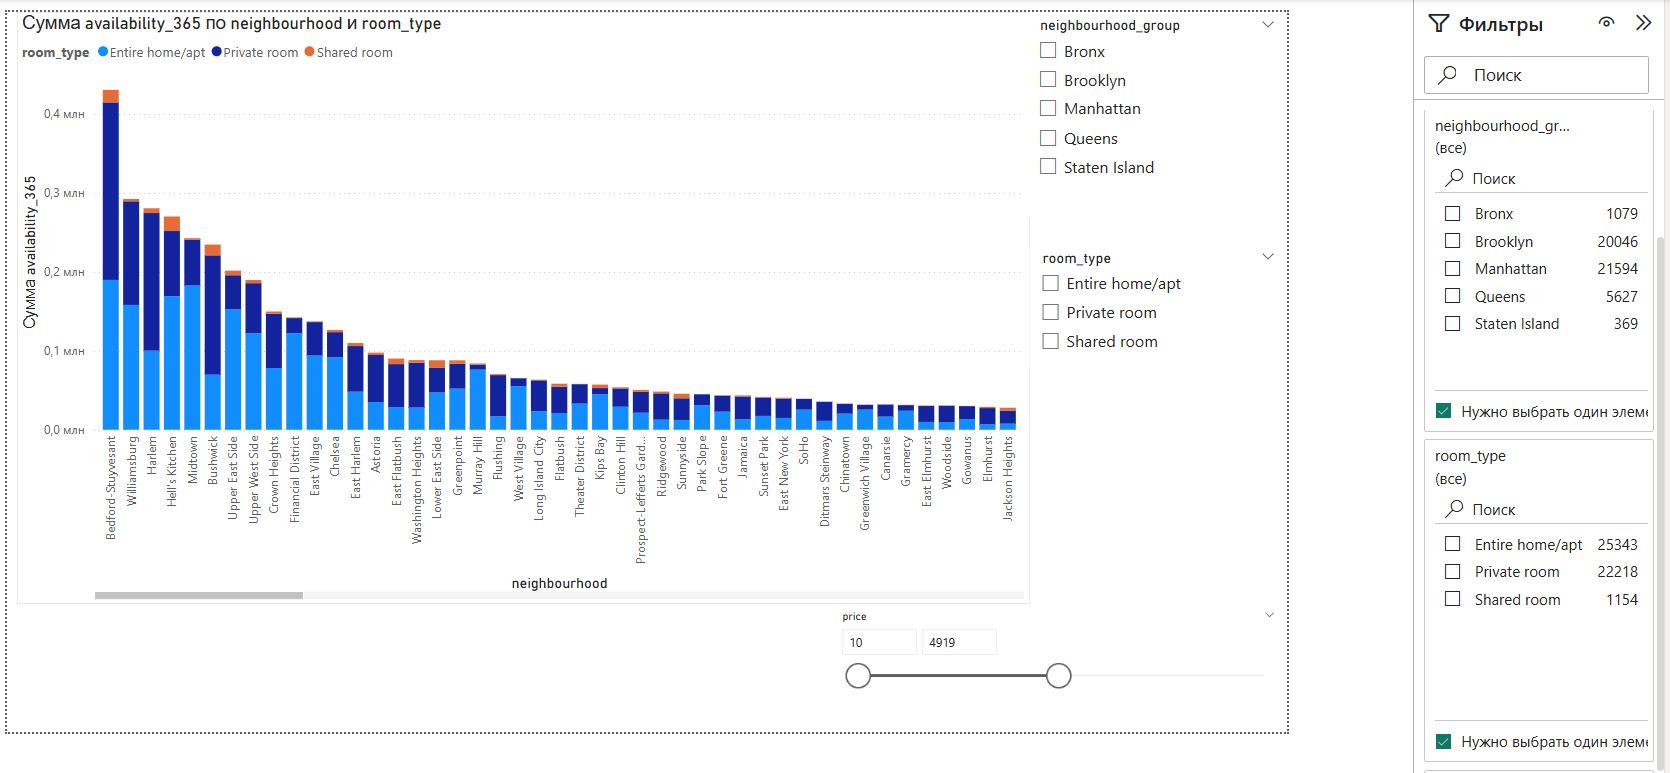

What the dashboard file says about the page in this screenshot:
{"tool":"powerbi","page":{"name":"Total Availability per Neighborhood","canvas":[1280,720],"ordinal":5},"visuals":[{"type":"columnChart","fields":{"Category":["AB_NYC_2019.neighbourhood"],"Y":["Sum(AB_NYC_2019.availability_365)"],"Series":["AB_NYC_2019.room_type"]},"box":[10,0,1012.5,592.5],"z":0},{"type":"slicer","fields":{"Values":["AB_NYC_2019.room_type"]},"box":[1022.5,232.5,257.5,127.5],"z":1},{"type":"slicer","fields":{"Values":["AB_NYC_2019.neighbourhood_group"]},"box":[1020,0,260,207.5],"z":2},{"type":"slicer","fields":{"Values":["AB_NYC_2019.price"]},"box":[822.5,592.5,457.5,127.5],"z":3}]}

Visuals, with their boxes on the page's 1280x720 design canvas (x1, y1, x2, y2). These are canvas units, not pixel positions in the 1670x773 screenshot, which may show the page scaled, cropped or inside an application window:
columnChart - AB_NYC_2019.neighbourhood x Sum(AB_NYC_2019.availability_365): {"x1": 10, "y1": 0, "x2": 1022, "y2": 592}
slicer - AB_NYC_2019.room_type: {"x1": 1022, "y1": 232, "x2": 1280, "y2": 360}
slicer - AB_NYC_2019.neighbourhood_group: {"x1": 1020, "y1": 0, "x2": 1280, "y2": 208}
slicer - AB_NYC_2019.price: {"x1": 822, "y1": 592, "x2": 1280, "y2": 720}
